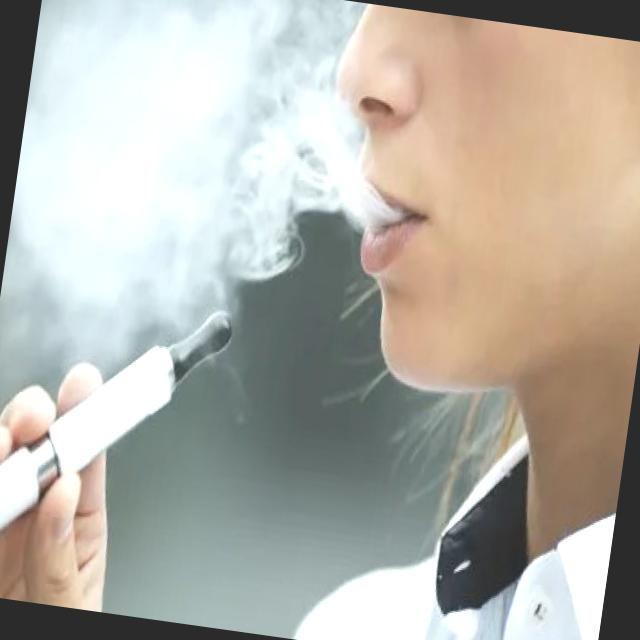cigarette: (0, 261, 250, 598)
